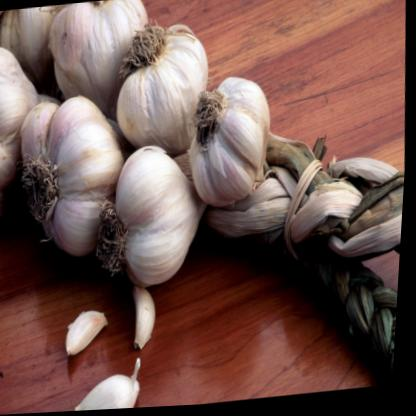--: (1, 77, 143, 288), (94, 104, 228, 310), (176, 67, 289, 226), (50, 298, 130, 370), (63, 362, 149, 413)
